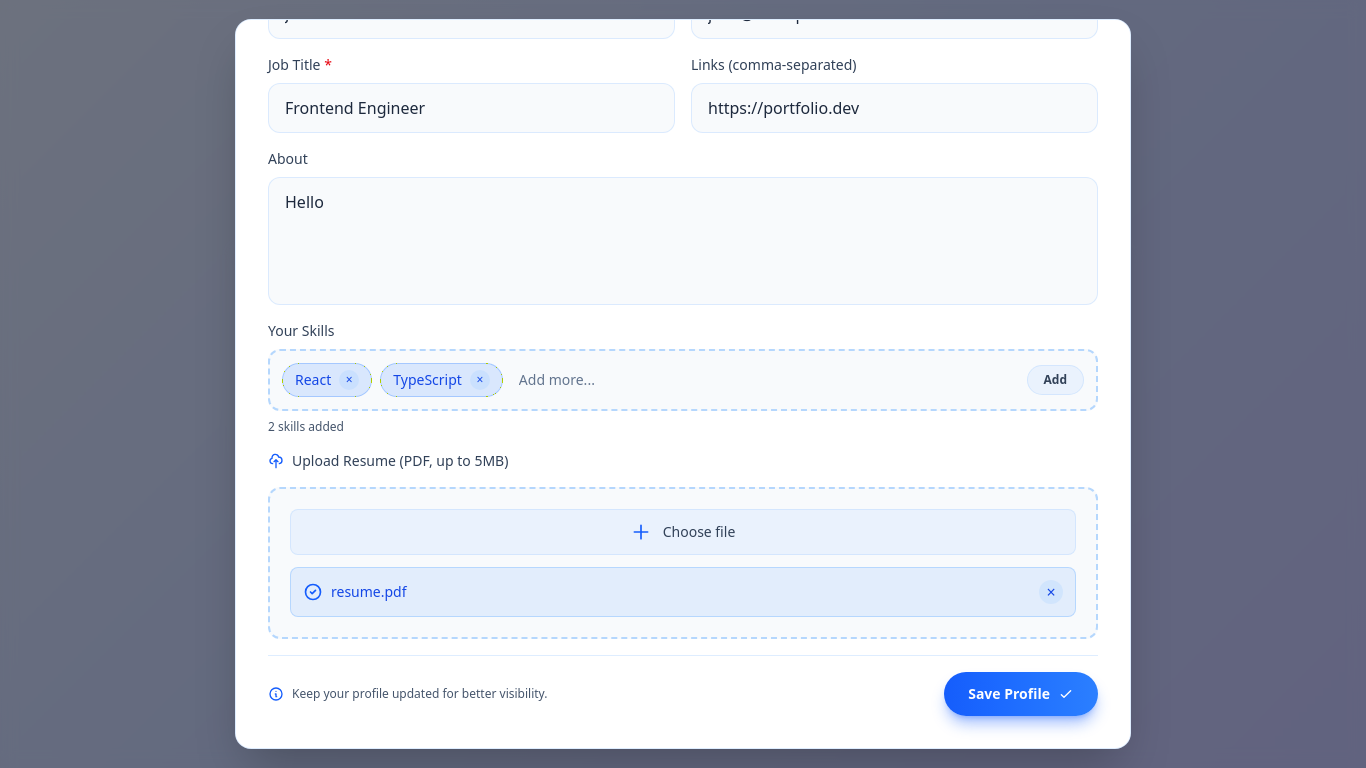
Test: ProfileModal › shows error message when save fails
(page scrolled)
Click the button "Save Profile" at (1021, 694), box 944,672 -> 1098,716
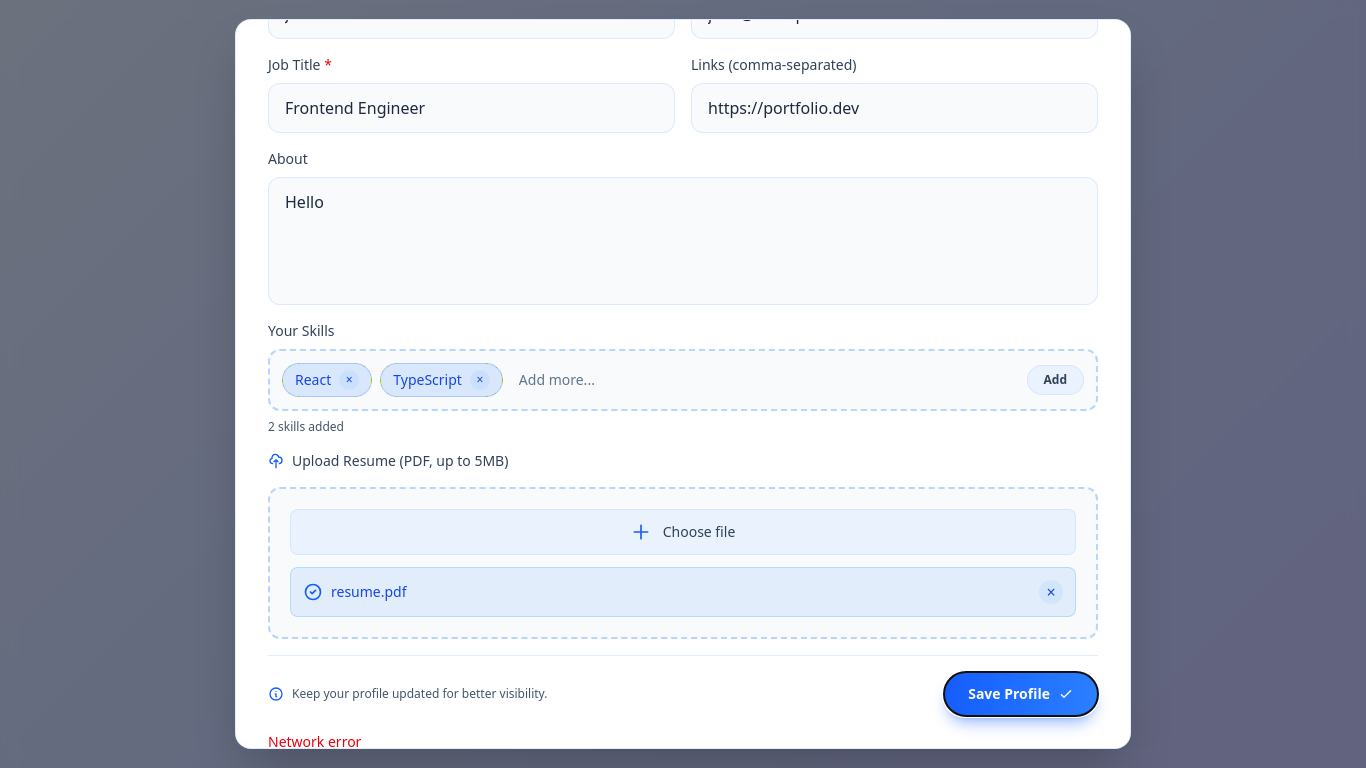
Now the text "Network error" is shown, box 268,732 -> 361,749
